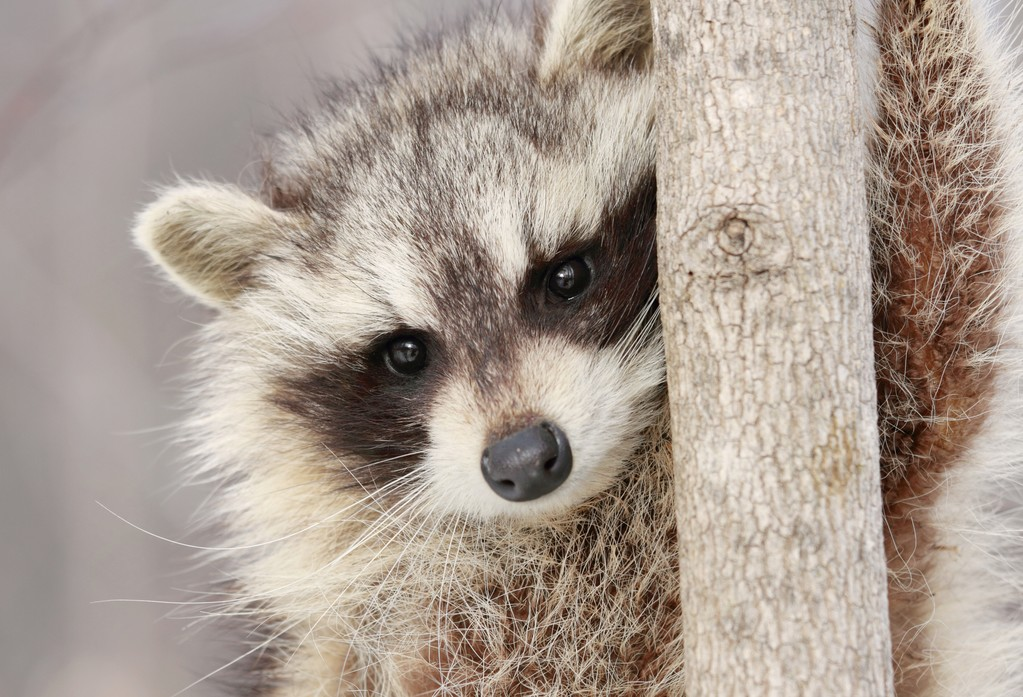raccoon: (116, 7, 1019, 697)
